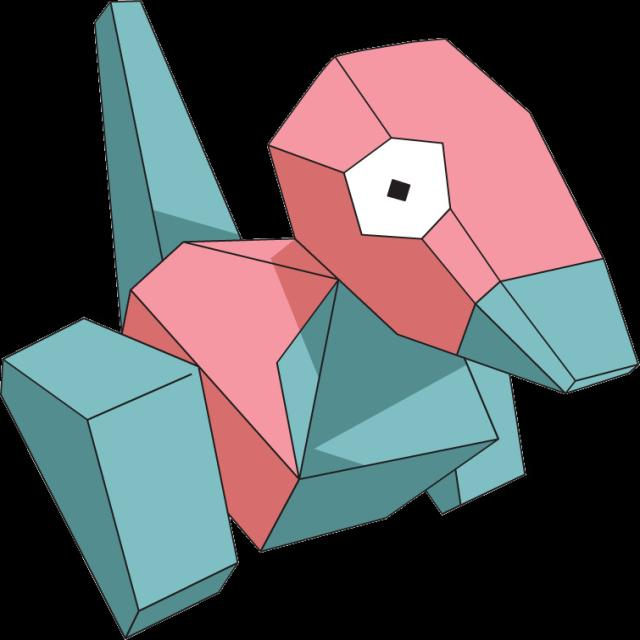Porygon: (67, 40, 626, 546)
